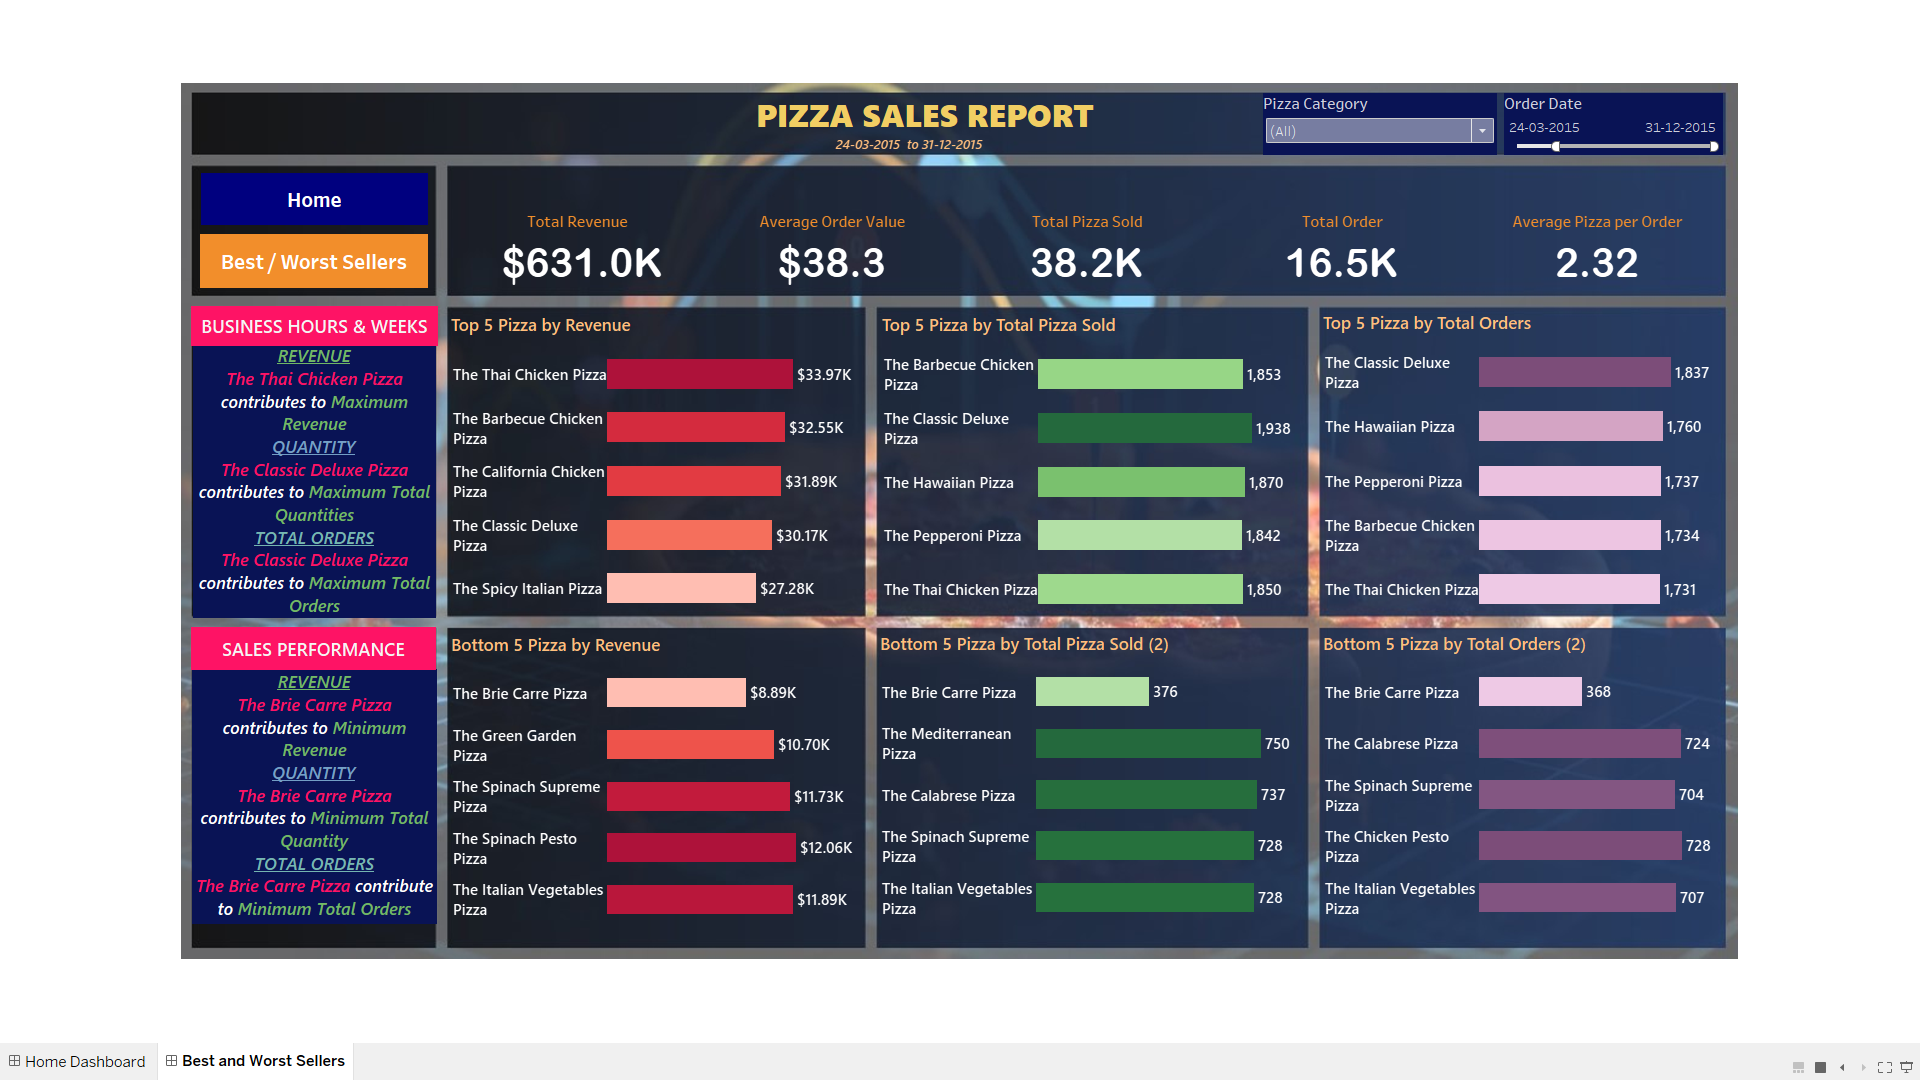

This screenshot's page, from the dashboard's own definition file:
{"tool":"tableau","page":{"name":"Best and Worst Sellers","canvas":[1600,900],"ordinal":0},"visuals":[{"type":"image","param":"D:/Tableau/image for dash/Pizza Tableau 2.jpg","box":[8,8,1584,884]},{"type":"text","box":[574,21,382,44]},{"type":"filter","title":"Date Range","param":"[federated.1s19ngb170yqy91g77sqf0zpxc76].[none:pizza_category:nk]","box":[1103,22,234,62]},{"type":"filter","title":"Date Range","param":"[federated.1s19ngb170yqy91g77sqf0zpxc76].[none:order_date:qk]","box":[1344,22,219,62]},{"type":"image","param":"D:/Tableau/image for dash/Pizza Sales Images-20250130T171529Z-001/Pizza Sales Im","box":[524,26,69,51]},{"type":"worksheet","title":"Date Range","mark":"Automatic","box":[574,64,351,18]},{"type":"image","param":"D:/Tableau/image for dash/Pizza Sales Images-20250130T171529Z-001/Pizza Sales Im","box":[629,95,84,49]},{"type":"image","param":"D:/Tableau/image for dash/Pizza Sales Images-20250130T171529Z-001/Pizza Sales Im","box":[385,96,64,45]},{"type":"image","param":"D:/Tableau/image for dash/Pizza Sales Images-20250130T171529Z-001/Pizza Sales Im","box":[1407,96,65,40]},{"type":"image","param":"D:/Tableau/image for dash/Pizza Sales Images-20250130T171529Z-001/Pizza Sales Im","box":[1137,98,86,38]},{"type":"image","param":"D:/Tableau/image for dash/Pizza Sales Images-20250130T171529Z-001/Pizza Sales Im","box":[877,100,99,38]},{"type":"dashboard-object","box":[41,102,227,52]},{"type":"worksheet","title":"KPI Cards","mark":"Automatic","box":[290,140,1275,85]},{"type":"dashboard-object","box":[40,163,228,54]},{"type":"text","box":[31,235,247,40]},{"type":"worksheet","title":"Top 5 Pizza by Total Orders","mark":"Automatic","rows":["pizza_name"],"cols":["Calculation_130322956001345538"],"box":[1159,236,405,309]},{"type":"worksheet","title":"Top 5 Pizza by Revenue","mark":"Automatic","rows":["pizza_name"],"cols":["Calculation_130322956000714752"],"box":[287,238,418,306]},{"type":"worksheet","title":"Top 5 Pizza by Total Pizza Sold","mark":"Automatic","rows":["pizza_name"],"cols":["Calculation_130322956001644547"],"box":[718,238,428,307]},{"type":"text","box":[33,275,243,272]},{"type":"text","box":[31,556,245,43]},{"type":"worksheet","title":"Bottom 5 Pizza by Total Pizza Sold (2)","mark":"Automatic","rows":["pizza_name"],"cols":["Calculation_130322956001644547"],"box":[716,557,429,295]},{"type":"worksheet","title":"Bottom 5 Pizza by Total Orders (2)","mark":"Automatic","rows":["pizza_name"],"cols":["Calculation_130322956001345538"],"box":[1159,557,406,295]},{"type":"worksheet","title":"Bottom 5 Pizza by Revenue ","mark":"Automatic","rows":["pizza_name"],"cols":["Calculation_130322956000714752"],"box":[287,558,419,296]},{"type":"text","box":[32,598,245,255]}]}

Visuals, with their boxes on the page's 1600x900 design canvas (x1, y1, x2, y2). These are canvas units, not pixel positions in the 1920x1080 screenshot, which may show the page scaled, cropped or inside an application window:
image: bbox=[8, 8, 1592, 892]
text: bbox=[574, 21, 956, 65]
"Date Range" filter: bbox=[1103, 22, 1337, 84]
"Date Range" filter: bbox=[1344, 22, 1563, 84]
image: bbox=[524, 26, 593, 77]
"Date Range" worksheet: bbox=[574, 64, 925, 82]
image: bbox=[629, 95, 713, 144]
image: bbox=[385, 96, 449, 141]
image: bbox=[1407, 96, 1472, 136]
image: bbox=[1137, 98, 1223, 136]
image: bbox=[877, 100, 976, 138]
dashboard-object: bbox=[41, 102, 268, 154]
"KPI Cards" worksheet: bbox=[290, 140, 1565, 225]
dashboard-object: bbox=[40, 163, 268, 217]
text: bbox=[31, 235, 278, 275]
"Top 5 Pizza by Total Orders" worksheet: bbox=[1159, 236, 1564, 545]
"Top 5 Pizza by Revenue" worksheet: bbox=[287, 238, 705, 544]
"Top 5 Pizza by Total Pizza Sold" worksheet: bbox=[718, 238, 1146, 545]
text: bbox=[33, 275, 276, 547]
text: bbox=[31, 556, 276, 599]
"Bottom 5 Pizza by Total Pizza Sold (2)" worksheet: bbox=[716, 557, 1145, 852]
"Bottom 5 Pizza by Total Orders (2)" worksheet: bbox=[1159, 557, 1565, 852]
"Bottom 5 Pizza by Revenue " worksheet: bbox=[287, 558, 706, 854]
text: bbox=[32, 598, 277, 853]
